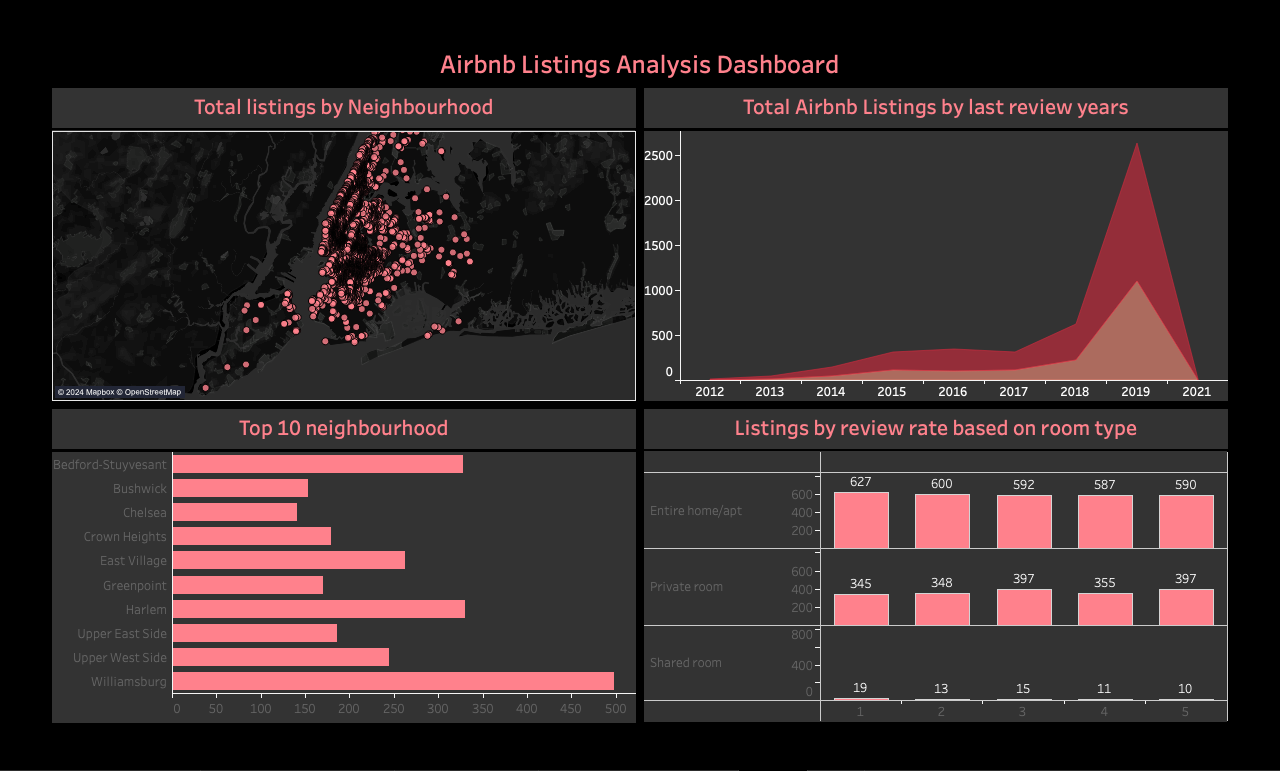

This screenshot's page, from the dashboard's own definition file:
{"tool":"tableau","page":{"name":"Airbnb","canvas":[1700,950],"ordinal":0},"visuals":[{"type":"worksheet","title":"Total listings by neighbourhood","mark":"Multipolygon","rows":["lat"],"cols":["long"],"box":[8,8,842,467]},{"type":"worksheet","title":"Total listings by last review years","mark":"Area","rows":["id"],"cols":["last review"],"box":[850,8,842,467]},{"type":"worksheet","title":"Top 10 neighbourhood","mark":"Automatic","rows":["neighbourhood"],"cols":["id"],"box":[8,475,842,467]},{"type":"worksheet","title":"Listings by review rate based on room type","mark":"Automatic","rows":["room type","id"],"cols":["review rate number"],"box":[850,475,842,467]}]}

Visuals, with their boxes on the page's 1700x950 design canvas (x1, y1, x2, y2). These are canvas units, not pixel positions in the 1280x771 screenshot, which may show the page scaled, cropped or inside an application window:
"Total listings by neighbourhood" worksheet (Multipolygon marks): rect(8, 8, 850, 475)
"Total listings by last review years" worksheet (Area marks): rect(850, 8, 1692, 475)
"Top 10 neighbourhood" worksheet: rect(8, 475, 850, 942)
"Listings by review rate based on room type" worksheet: rect(850, 475, 1692, 942)
